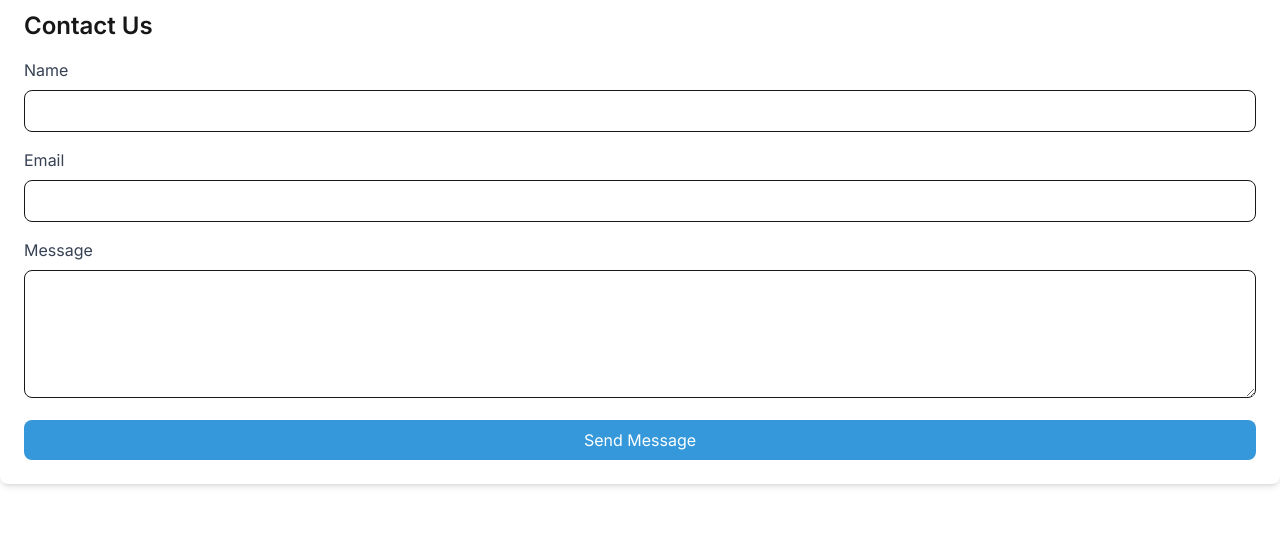
ContactForm › shows success message when form is submitted successfully
Fill out the form
Type "John Doe" into the field labelled "Name".
click(640, 111); type("John Doe")  # box [24,90,1256,132]
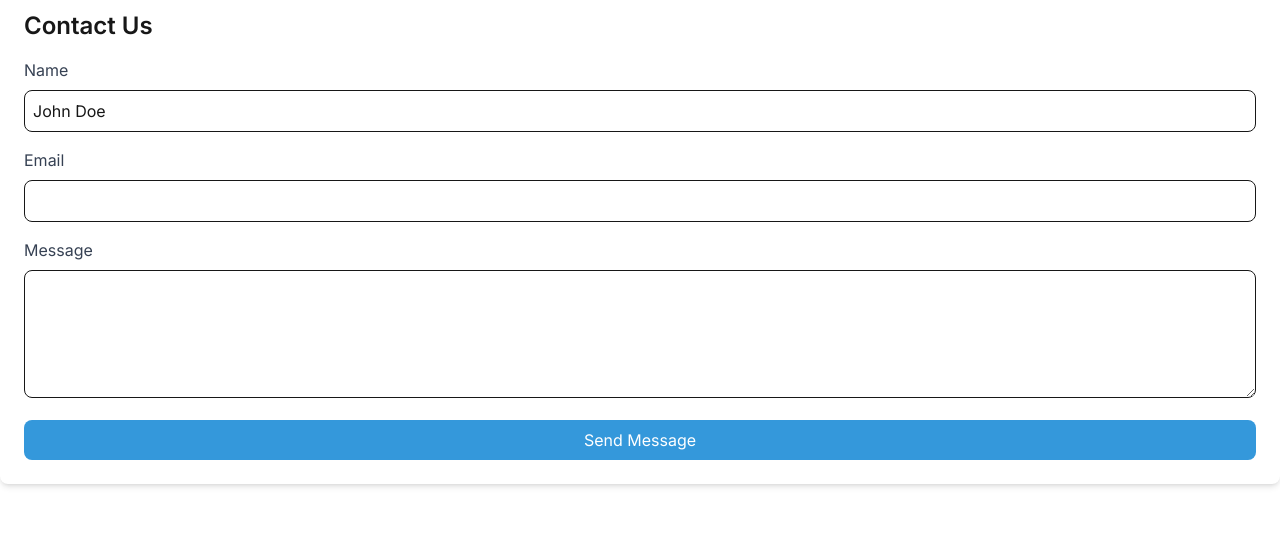
Type "john@example.com" into the field labelled "Email".
click(640, 201); type("john@example.com")  # box [24,180,1256,222]
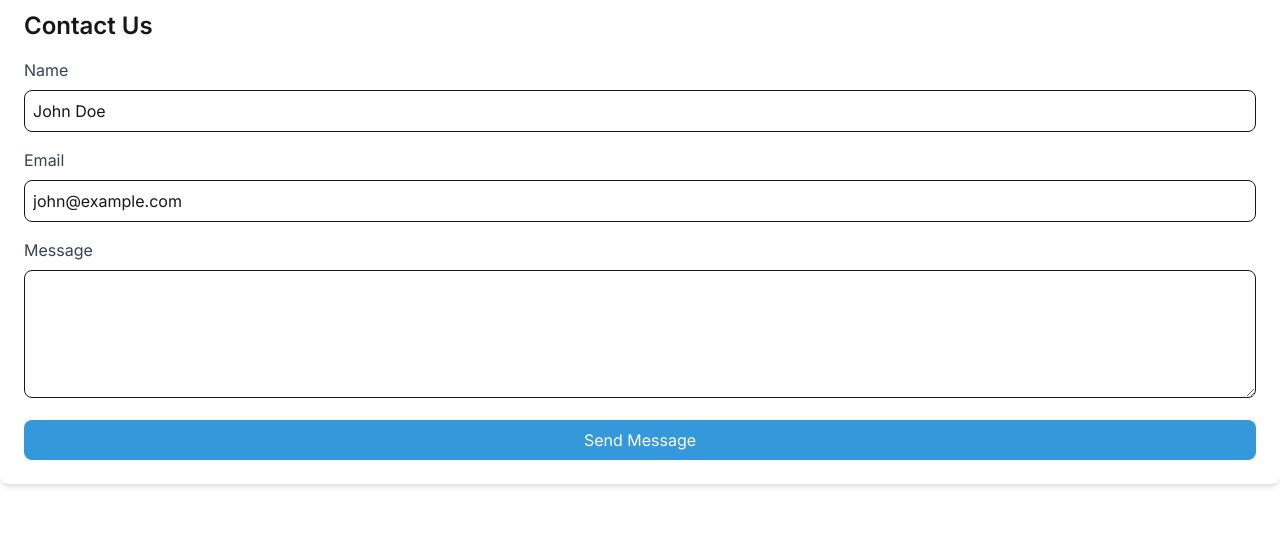
Type "Hello there!" into the text box labelled "Message".
click(640, 334); type("Hello there!")  # box [24,270,1256,398]
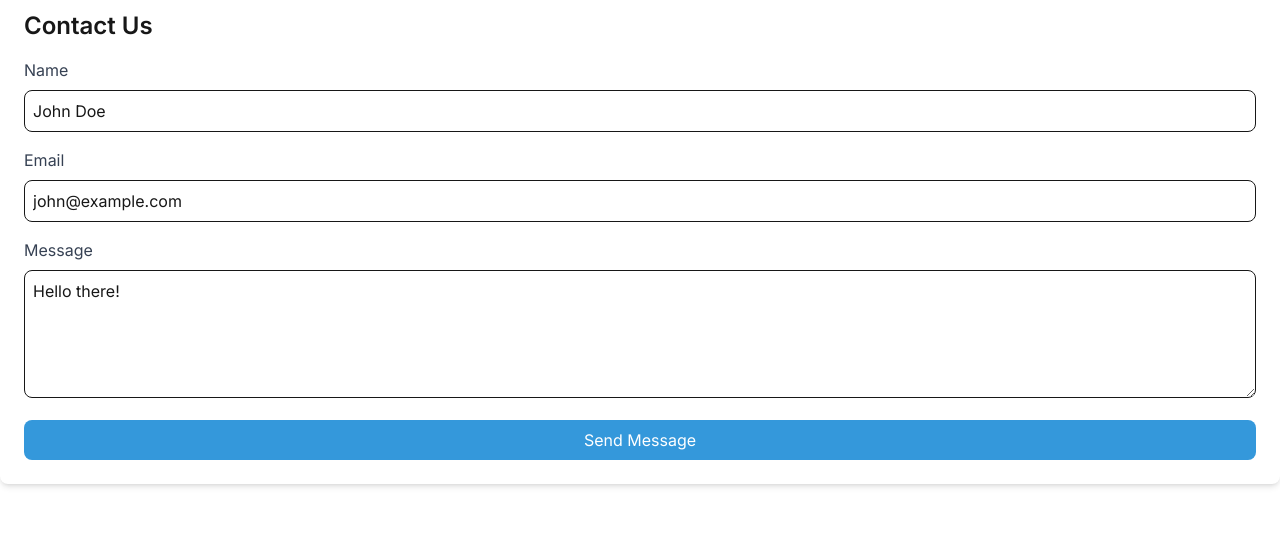
Submit the form
Click the button "Send Message".
click(640, 440)  # box [24,420,1256,460]
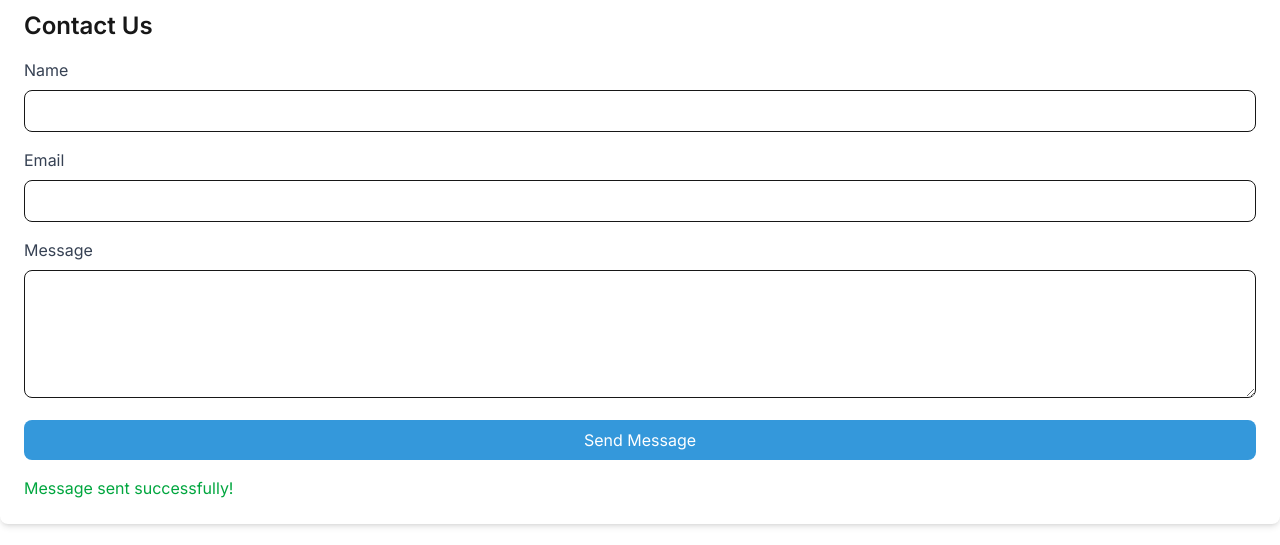
Now the text "Message sent successfully!" is shown, box [24,478,234,498]
Now the field labelled "Name" is empty, box [24,90,1256,132]
Now the field labelled "Email" is empty, box [24,180,1256,222]
